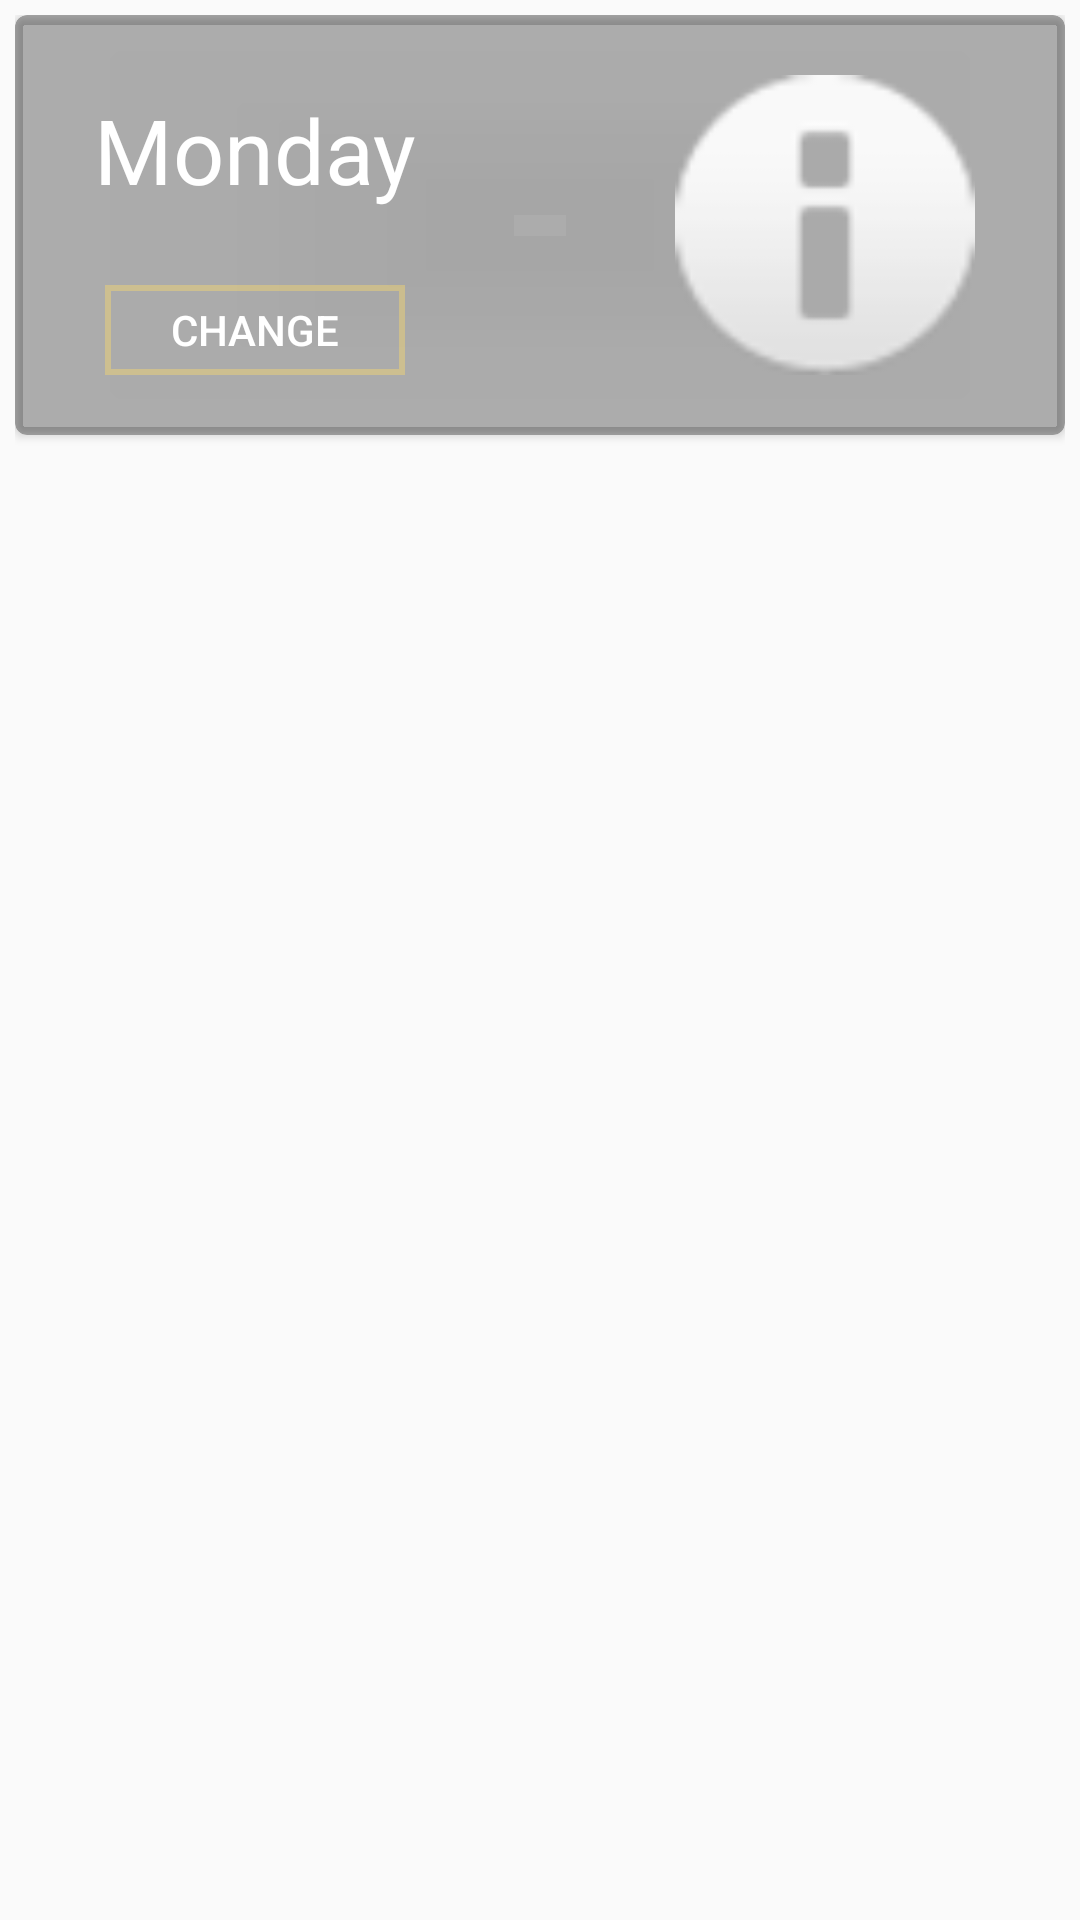

Point at icon controls on the screen. Image size 1080px×1920px, points as (x=x, y=y).
info: (x=825, y=222)
